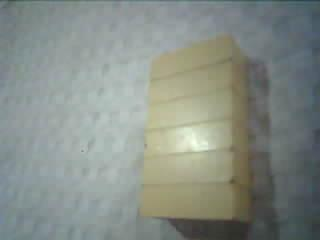lego: (137, 33, 250, 224)
